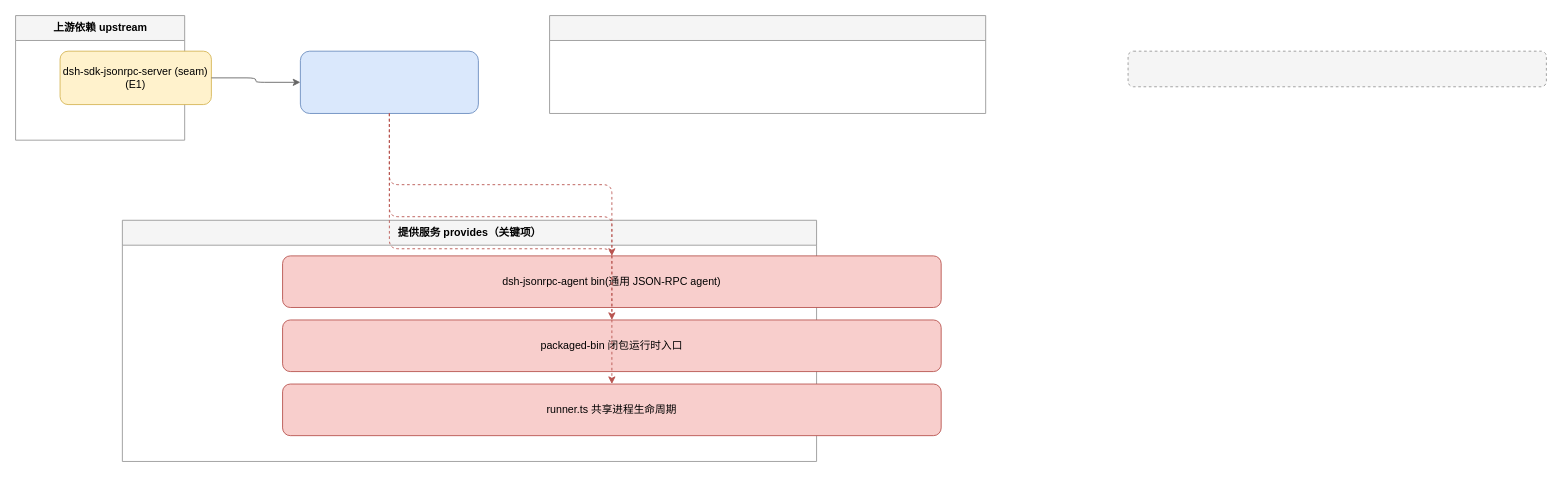
Some shapes in this 1562 by 477 pixel diagram are drawn without their labels. Here are the shapes that lost their labels. From the top down, the centre of each, then its label:
At [388,81]: "@deepseek-ai/dsh-sdk-jsonrpc-demo".
At [767,64]: "下游被依赖 dependents".
At [1336,68]: "无下游".
